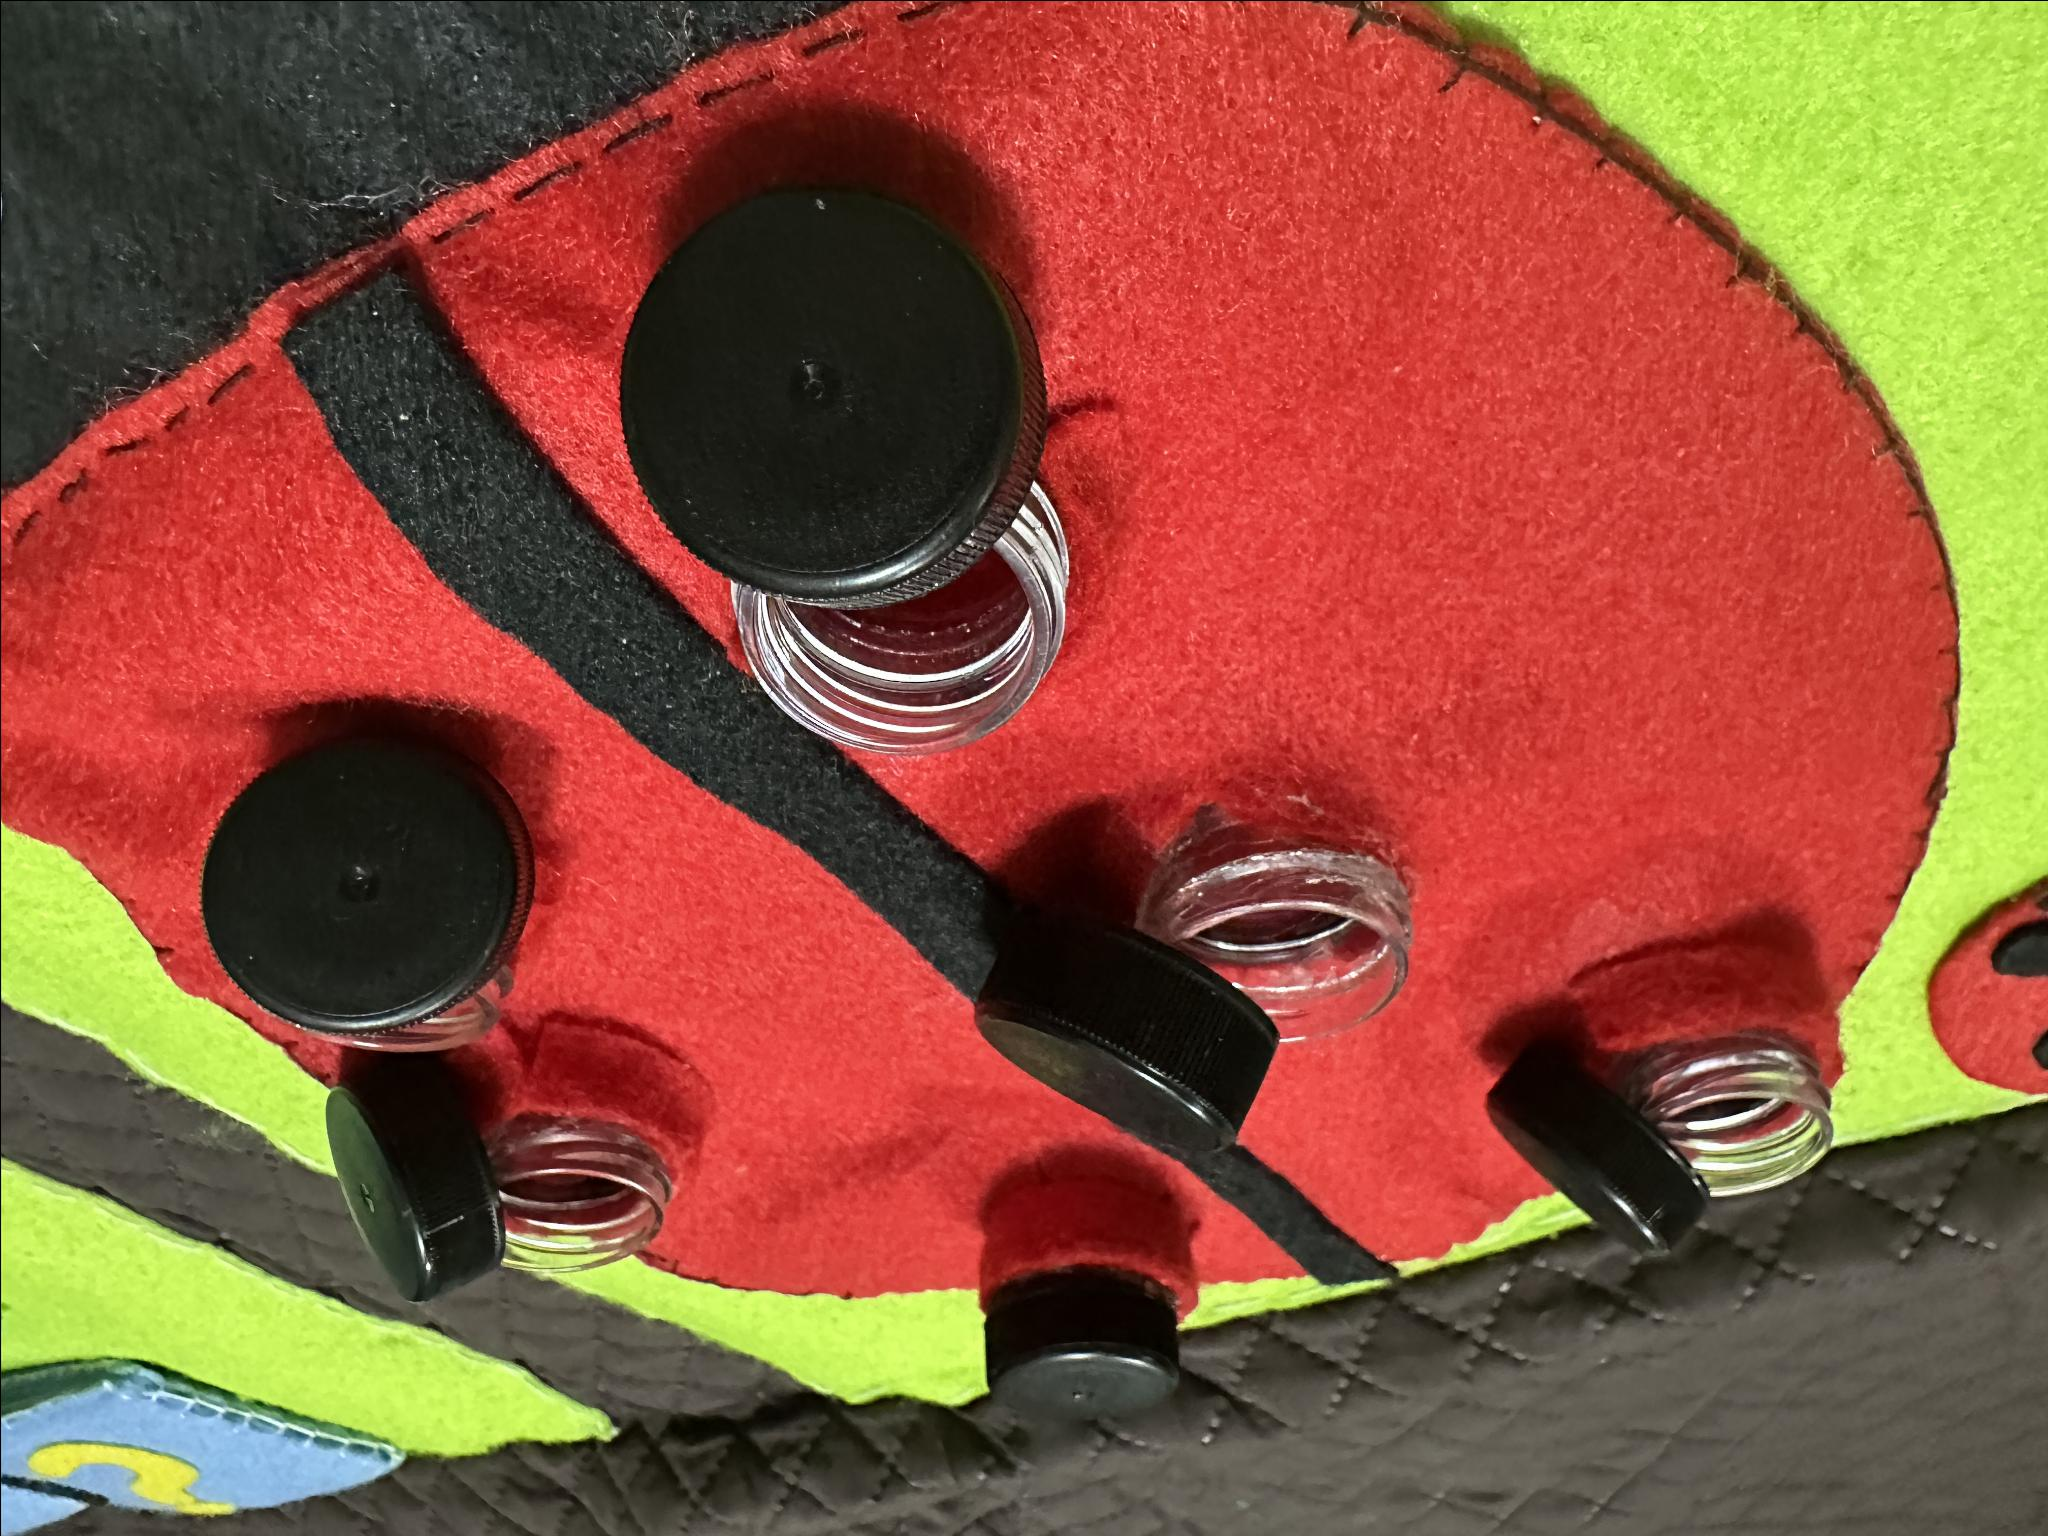cap_ng: (600, 150, 1121, 763), (921, 786, 1445, 1170), (171, 678, 556, 1070), (1467, 923, 1863, 1250), (290, 1036, 710, 1299)
cap_ok: (930, 1158, 1197, 1434)
